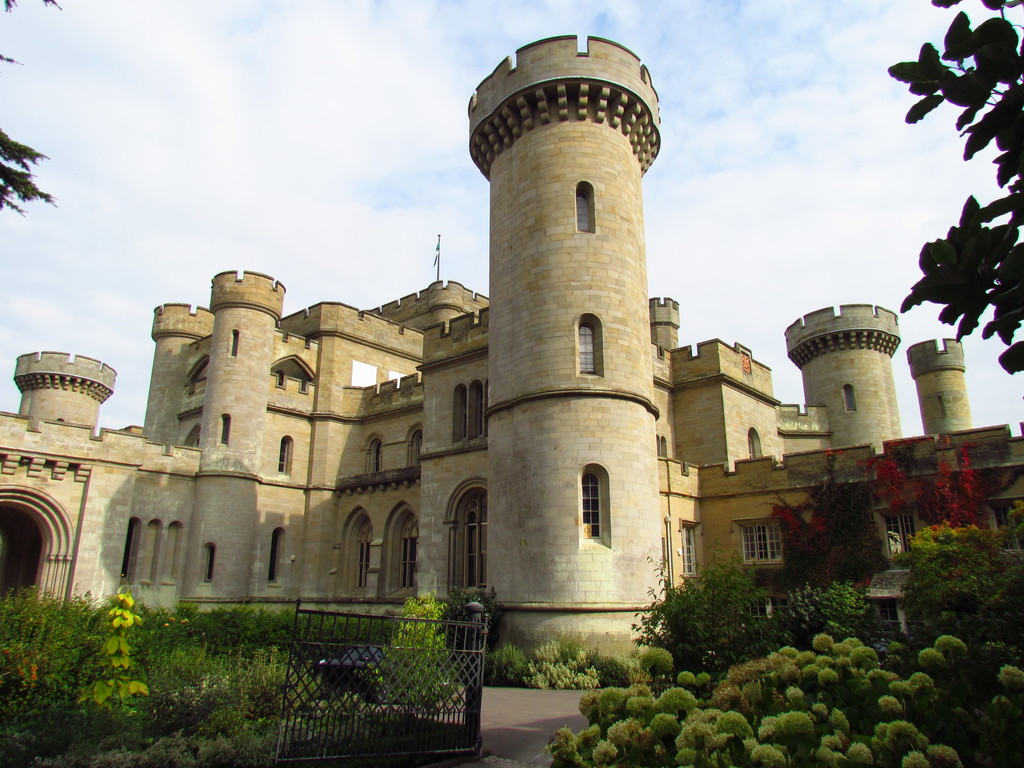Tree: (837, 54, 1024, 443), (0, 0, 56, 219)
